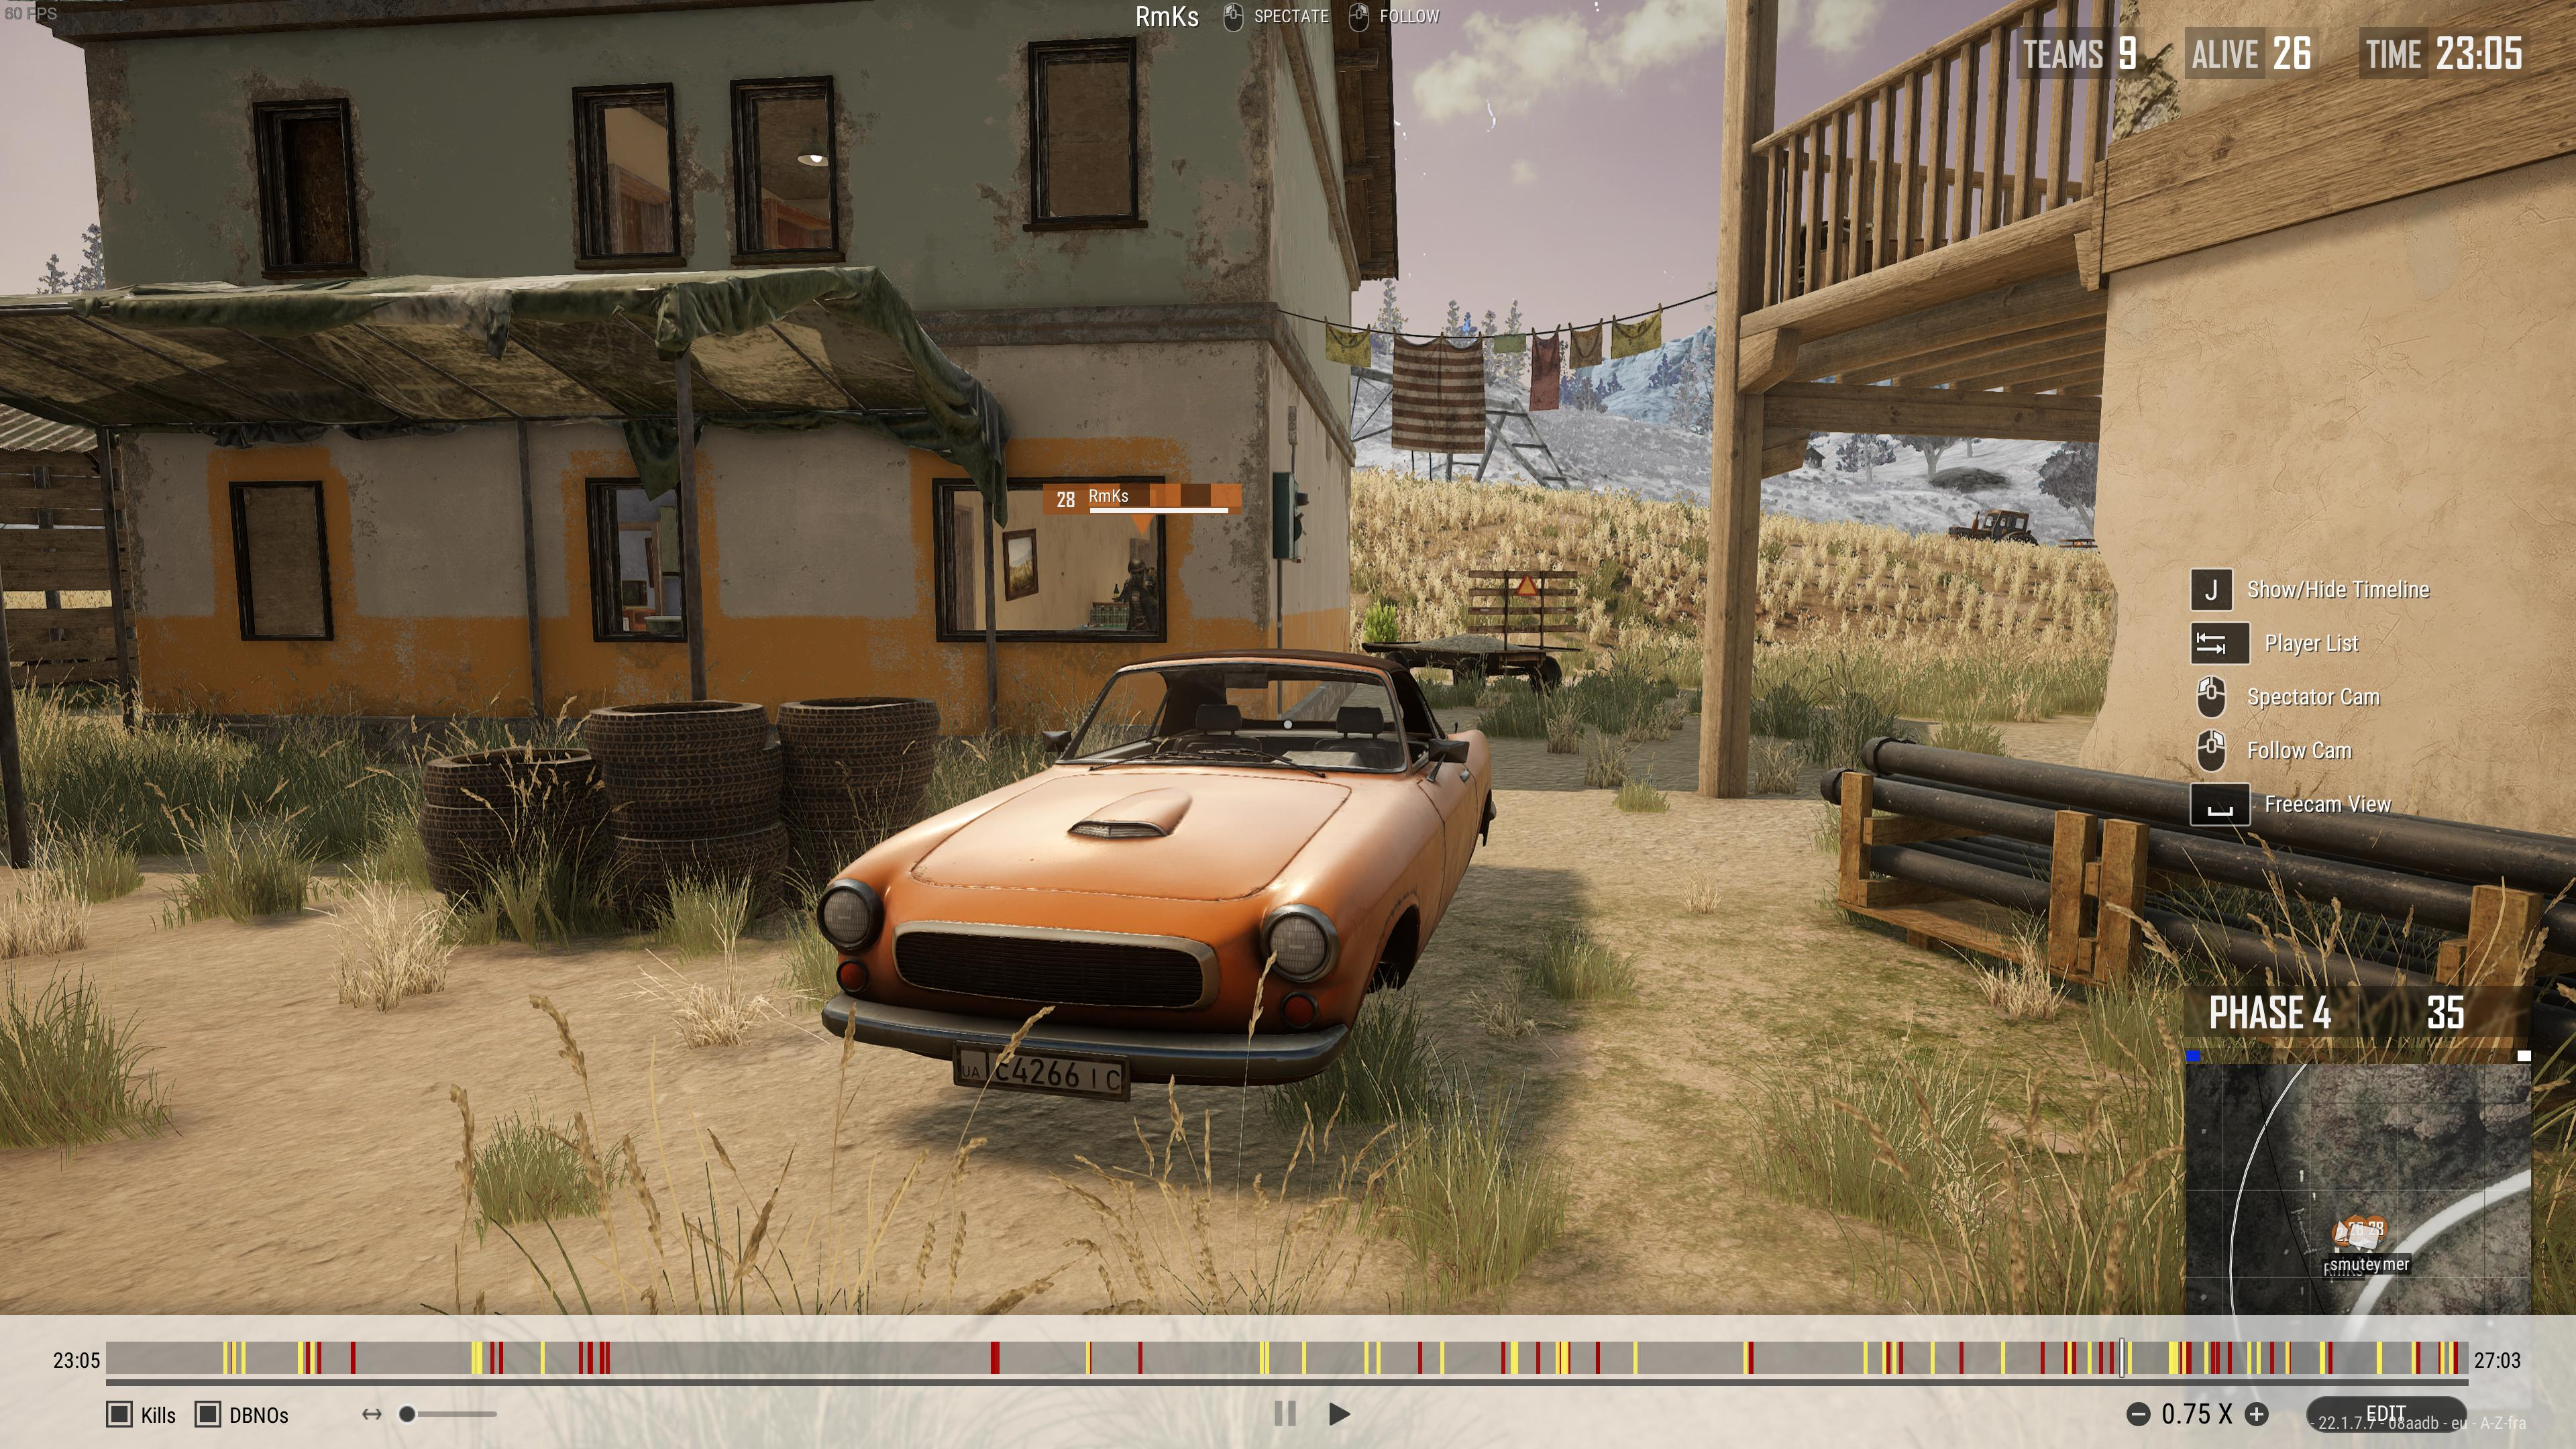enemy: (1120, 557, 1157, 630)
enemy_head: (1127, 557, 1146, 582)
